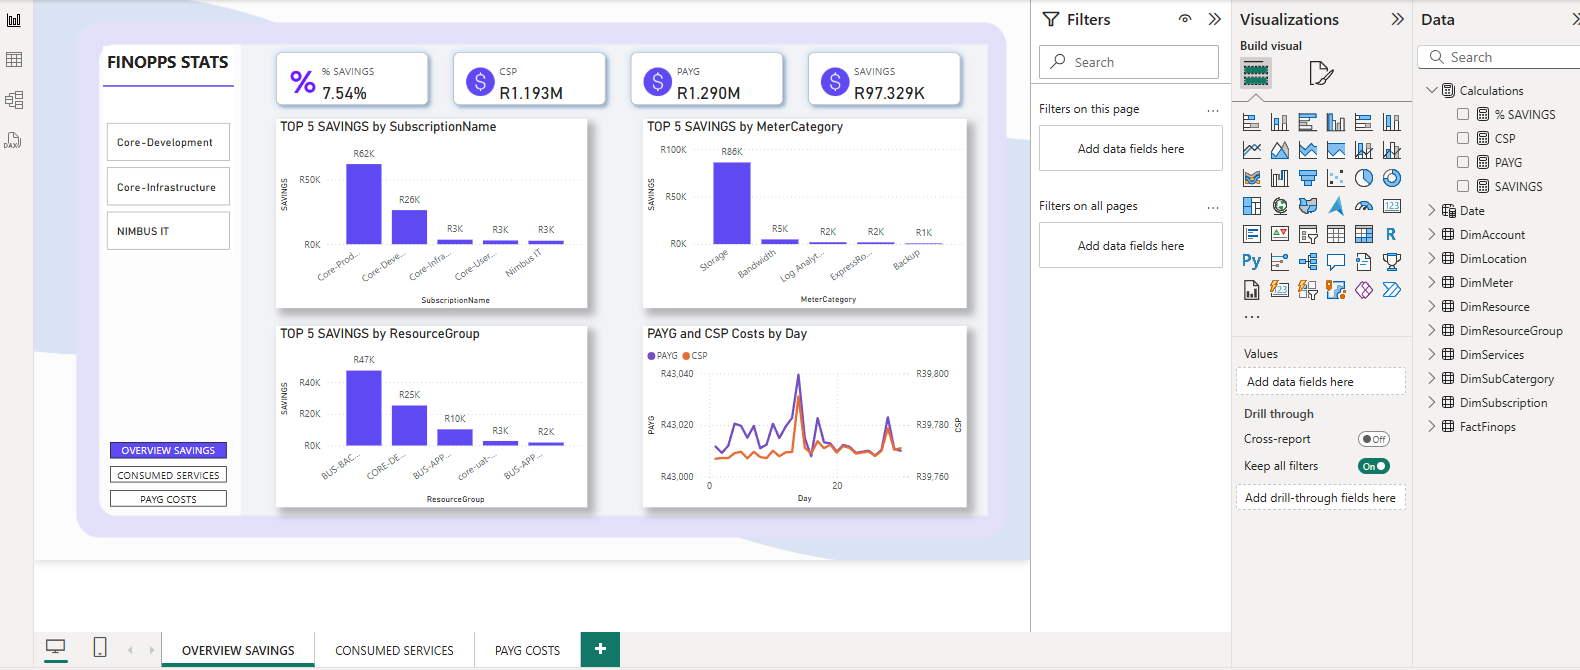

The dashboard page shown, as its layout file describes it:
{"tool":"powerbi","page":{"name":"OVERVIEW SAVINGS","canvas":[1280,720],"ordinal":1},"visuals":[{"type":"clusteredColumnChart","title":"TOP 5 SAVINGS by SubscriptionName","fields":{"Y":["Calculations.SAVINGS"],"Category":["DimSubscription.SubscriptionName"]},"box":[311,142.7,399.7,253.2],"z":0},{"type":"cardVisual","fields":{"Data":["Calculations.% SAVINGS","Calculations.CSP","Calculations.PAYG","Calculations.SAVINGS"]},"box":[341.8,39.8,809.6,102.8],"z":1000},{"type":"clusteredColumnChart","title":"TOP 5 SAVINGS by MeterCategory","fields":{"Y":["Calculations.SAVINGS"],"Category":["DimMeter.MeterCategory"]},"box":[782.7,142.7,416.4,253.2],"z":2000},{"type":"clusteredColumnChart","title":"TOP 5 SAVINGS by ResourceGroup","fields":{"Category":["DimResourceGroup.ResourceGroup"],"Y":["Calculations.SAVINGS"]},"box":[311,419,399.7,232.6],"z":3000},{"type":"advancedSlicerVisual","fields":{"Values":["DimAccount.DepartmentName"]},"box":[88.7,152.9,168.4,143.9],"z":4000},{"type":"textbox","box":[88.7,59.1,168.4,93.8],"z":5000},{"type":"shape","box":[88.7,68.1,168.4,84.8],"z":6000},{"type":"lineChart","title":"PAYG and CSP Costs by Day","fields":{"Category":["Date.Date.Variation.Date Hierarchy.Day"],"Y":["Calculations.PAYG"],"Y2":["Calculations.CSP"]},"box":[782.7,419,416.4,232.6],"z":7000},{"type":"pageNavigator","box":[97.7,550,150.4,101.5],"z":8000}]}

Visuals, with their boxes on the page's 1280x720 design canvas (x1, y1, x2, y2). These are canvas units, not pixel positions in the 1580x670 screenshot, which may show the page scaled, cropped or inside an application window:
"TOP 5 SAVINGS by SubscriptionName" clusteredColumnChart: 311:143:711:396
cardVisual - Calculations.% SAVINGS x Calculations.CSP: 342:40:1151:143
"TOP 5 SAVINGS by MeterCategory" clusteredColumnChart: 783:143:1199:396
"TOP 5 SAVINGS by ResourceGroup" clusteredColumnChart: 311:419:711:652
advancedSlicerVisual - DimAccount.DepartmentName: 89:153:257:297
textbox: 89:59:257:153
shape: 89:68:257:153
"PAYG and CSP Costs by Day" lineChart: 783:419:1199:652
pageNavigator: 98:550:248:652
